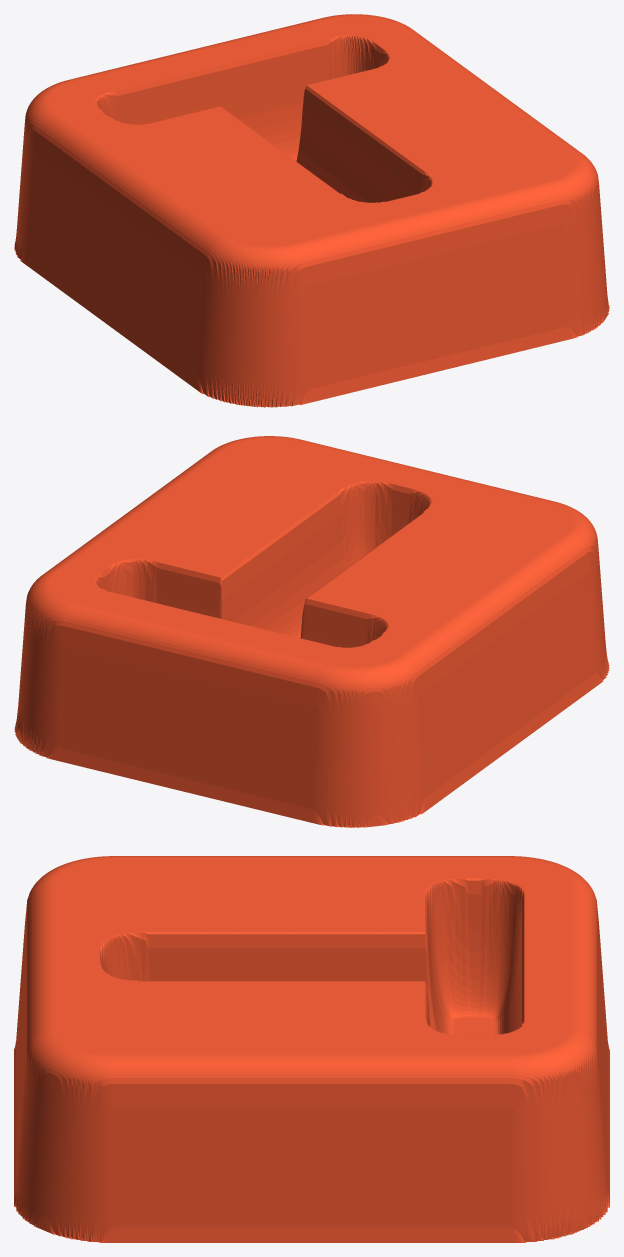
File: mold.glb
3 views of the same model, one above another, from view 1: azimuth 30°, elevation 25°; view 2: azimuth 150°, elevation 25°; view 3: azimuth 270°, elevation 25° (orthographic). The views are drawn at different scales.
Parts seen in each view (by area): view 1: geometry_0; view 2: geometry_0; view 3: geometry_0.
Part boxes in pixels (x1=…): geometry_0: x1=14, y1=14, x2=609, y2=407; geometry_0: x1=14, y1=436, x2=609, y2=827; geometry_0: x1=14, y1=856, x2=609, y2=1242.
Bounding box in the file's own units: 0.0494 × 0.0172 × 0.0542.
